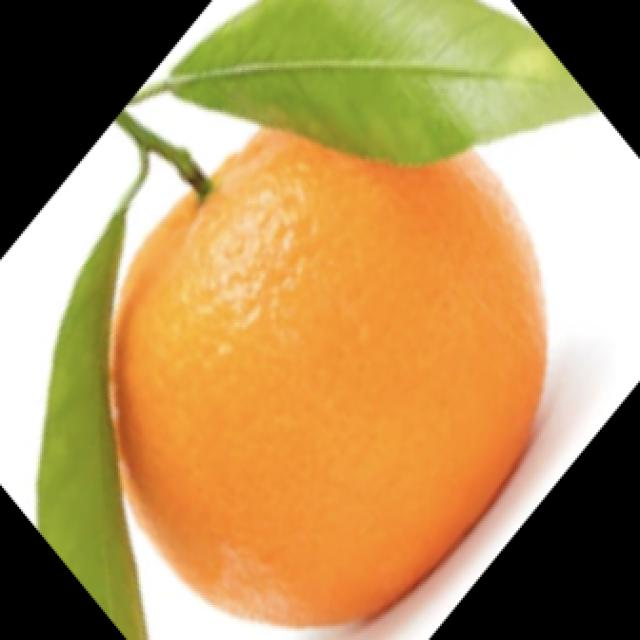fresh: (27, 19, 565, 620)
